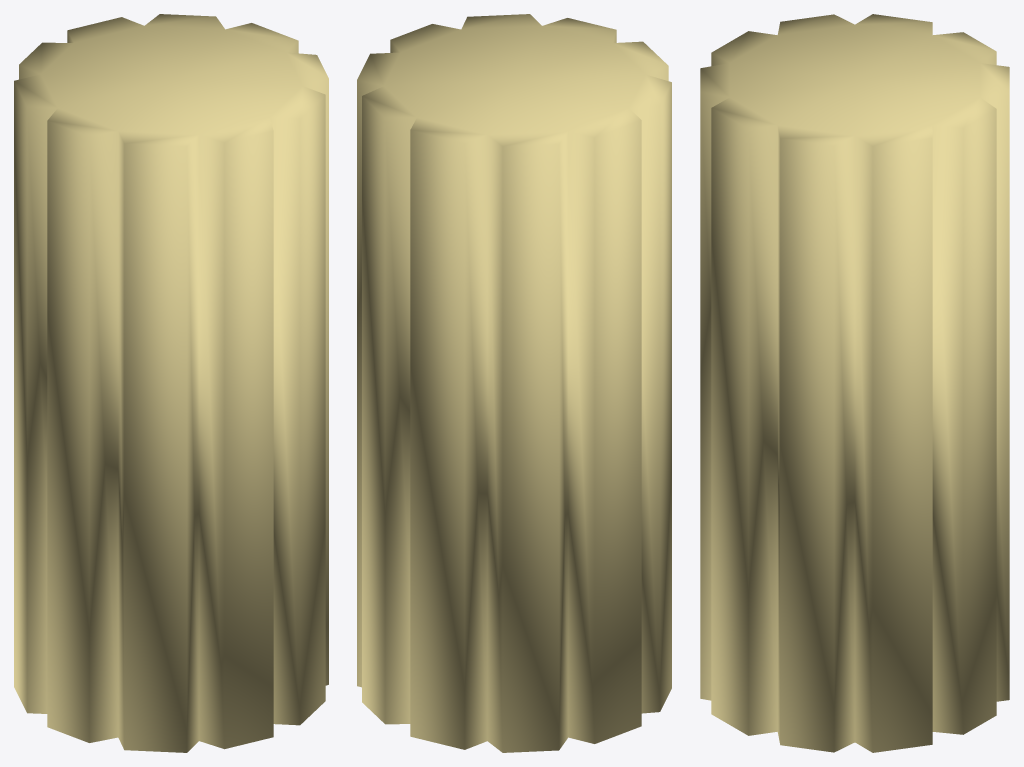
File: Gum Piller.obj
3 views of the same model, side by side, from view 1: azimuth 30°, elevation 25°; view 2: azimuth 150°, elevation 25°; view 3: azimuth 270°, elevation 25° (orthographic).
Parts seen in each view (by area): view 1: Gum_Piller; view 2: Gum_Piller; view 3: Gum_Piller.
Boxes of the visible parts, left/top/right/bottom form: Gum_Piller: left=14, top=14, right=328, bottom=752; Gum_Piller: left=357, top=14, right=671, bottom=752; Gum_Piller: left=700, top=14, right=1009, bottom=752.
Size of the model in its own units: 9.03 by 19.27 by 8.9.
